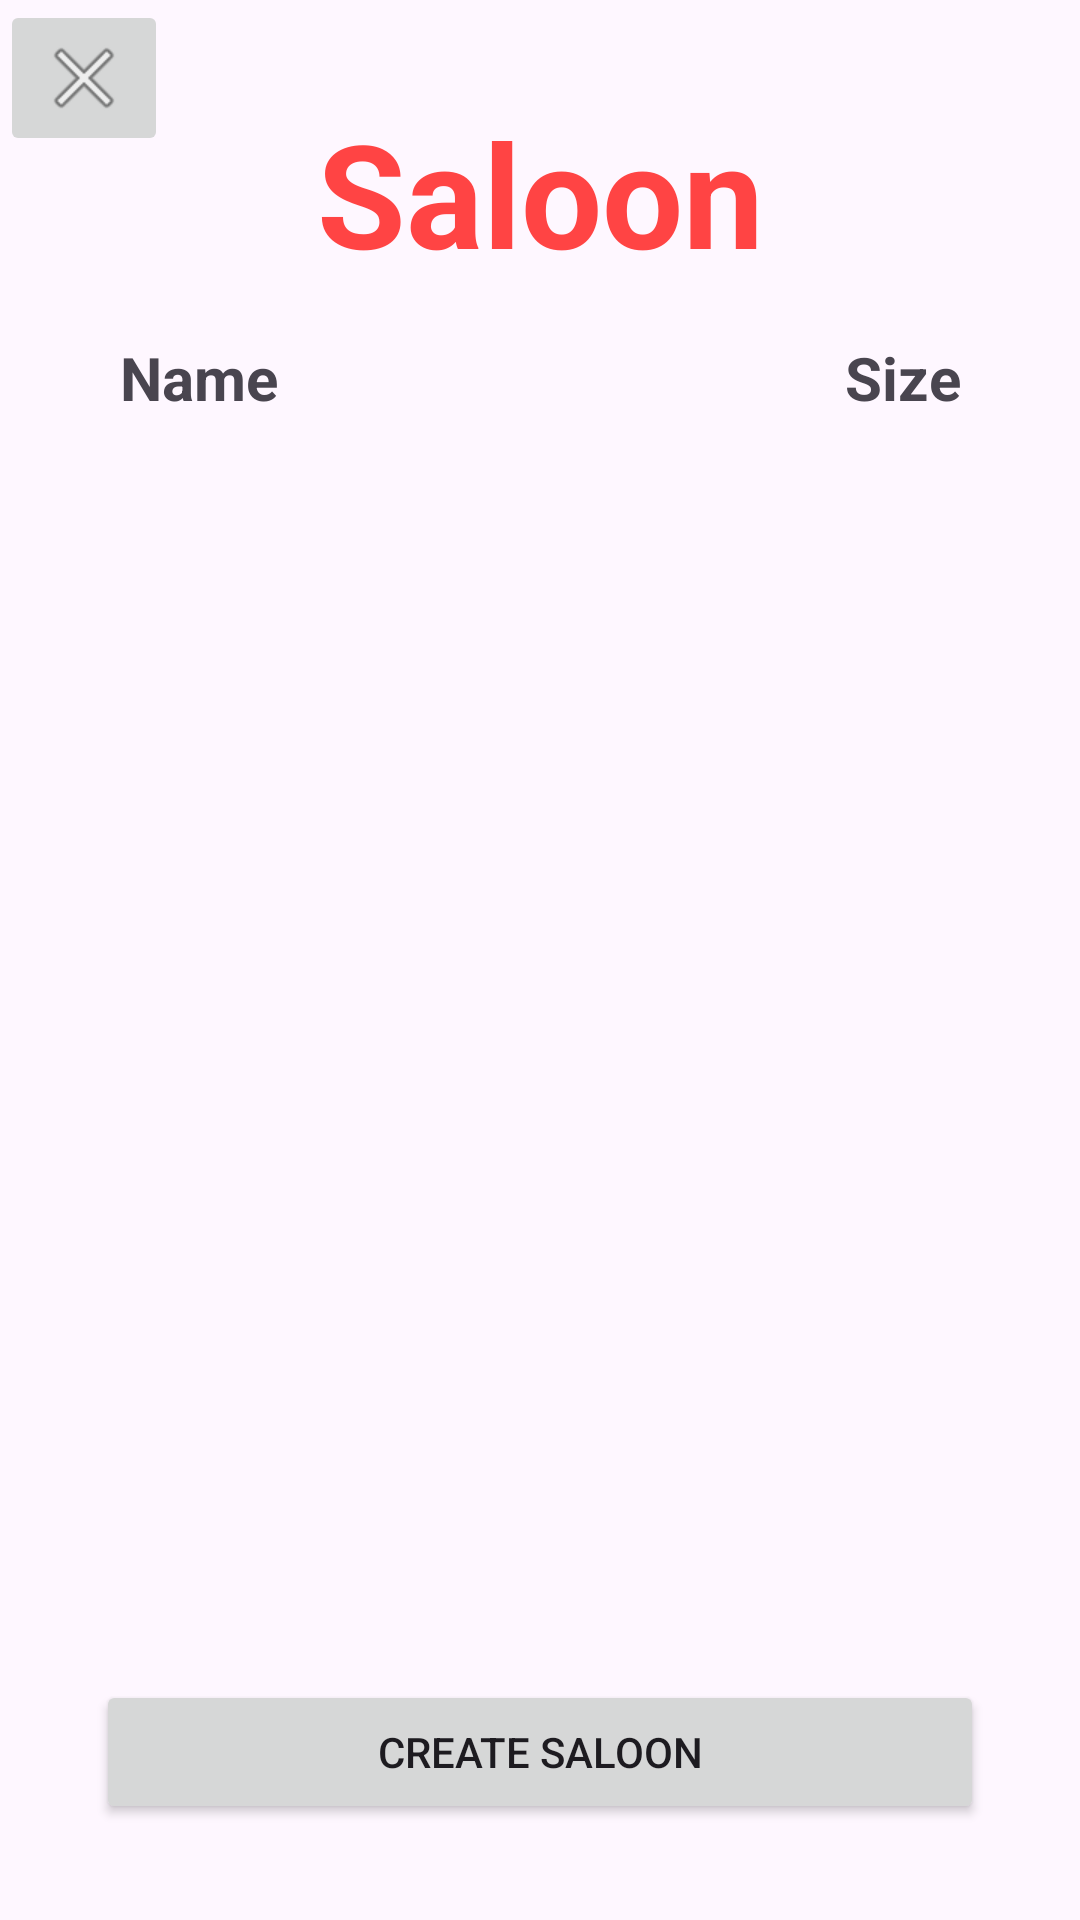

Named icons in this screenshot (1080px x 1920px) and their centers, point (x, y):
close clear cancel: point (84, 78)
